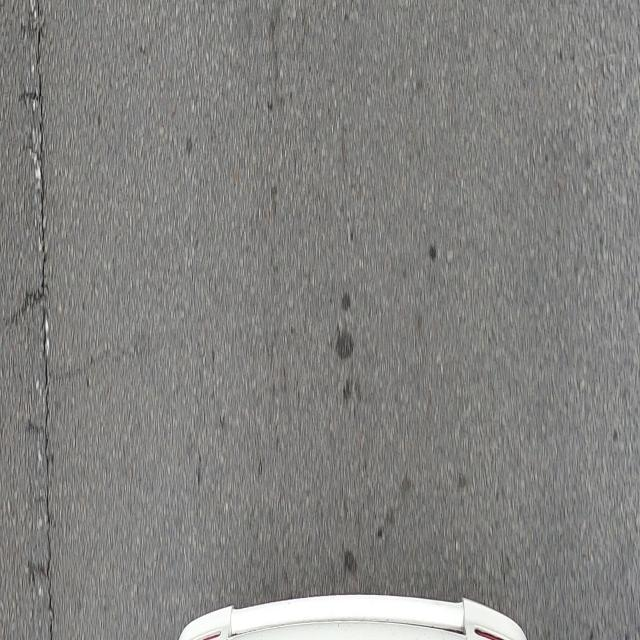Retak-Memanjang: (35, 3, 55, 639)
